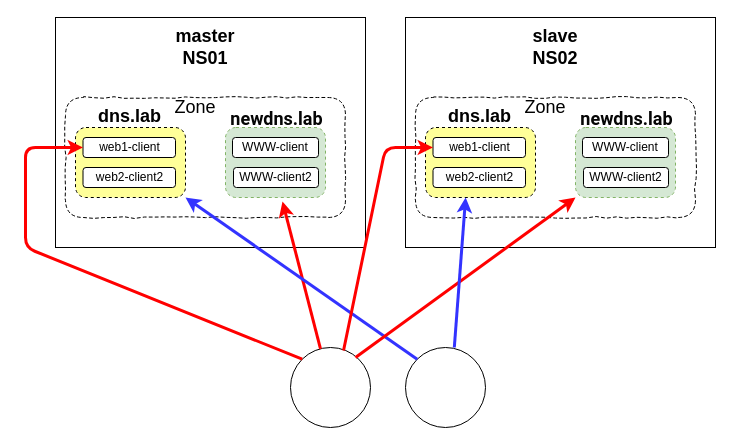
Some shapes in this 733 by 445 pixel diagram are drawn without their labels. The centre of each missing label's shape, as x and y in pixels:
"client 192.168.50.15" belongs at point (330, 387).
"client2 192.168.50.16" belongs at point (445, 387).
